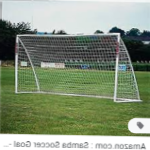goals: (12, 31, 145, 106)
